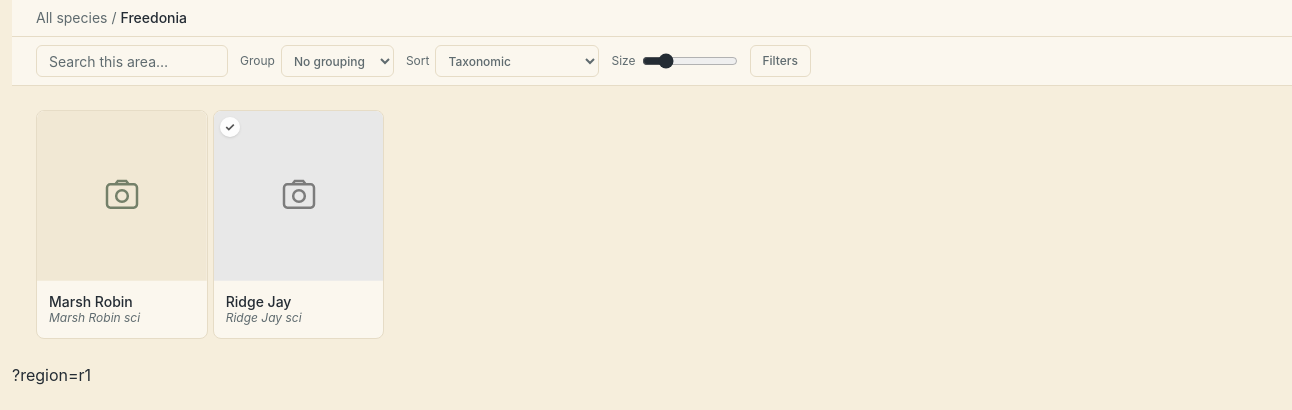
Test case: CollectionPage › filters the list from the Filters panel and records it in the URL
Expected: the text "Marsh Robin" is shown, x1=49 y1=293 x2=133 y2=310
Click the button "Filters": (780, 61) x1=750 y1=45 x2=811 y2=77
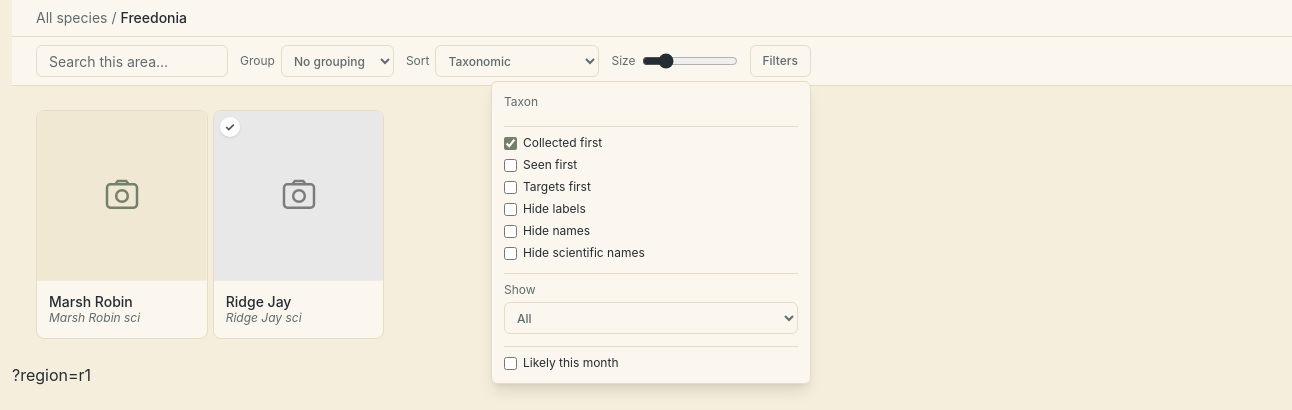
Select "Collected" in the dropdown named "Show": (651, 318) x1=504 y1=302 x2=798 y2=334
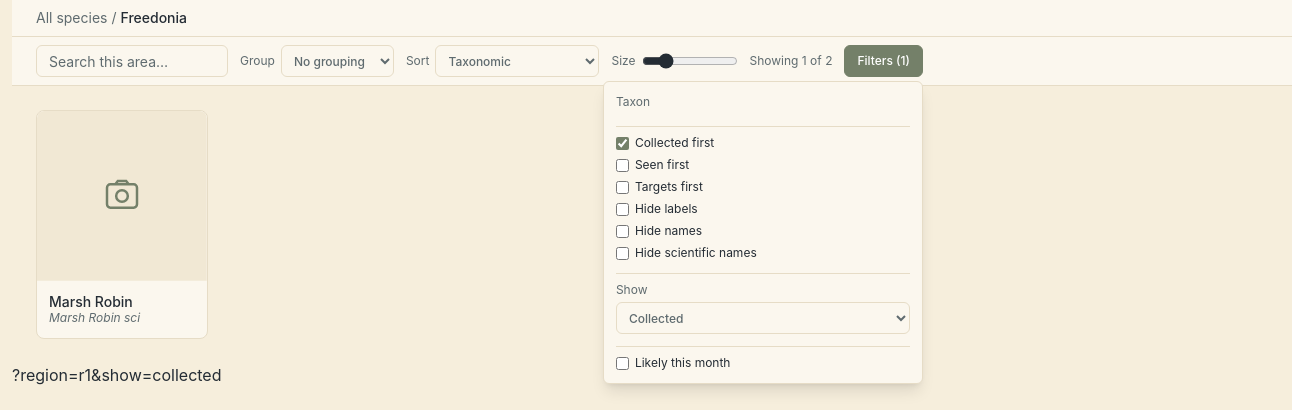
Expected: the text "Marsh Robin" is shown, x1=49 y1=293 x2=133 y2=310
Expected: the link "Ridge Jay" is gone
Expected: the button "Filters (1)" is shown, x1=844 y1=45 x2=923 y2=77
